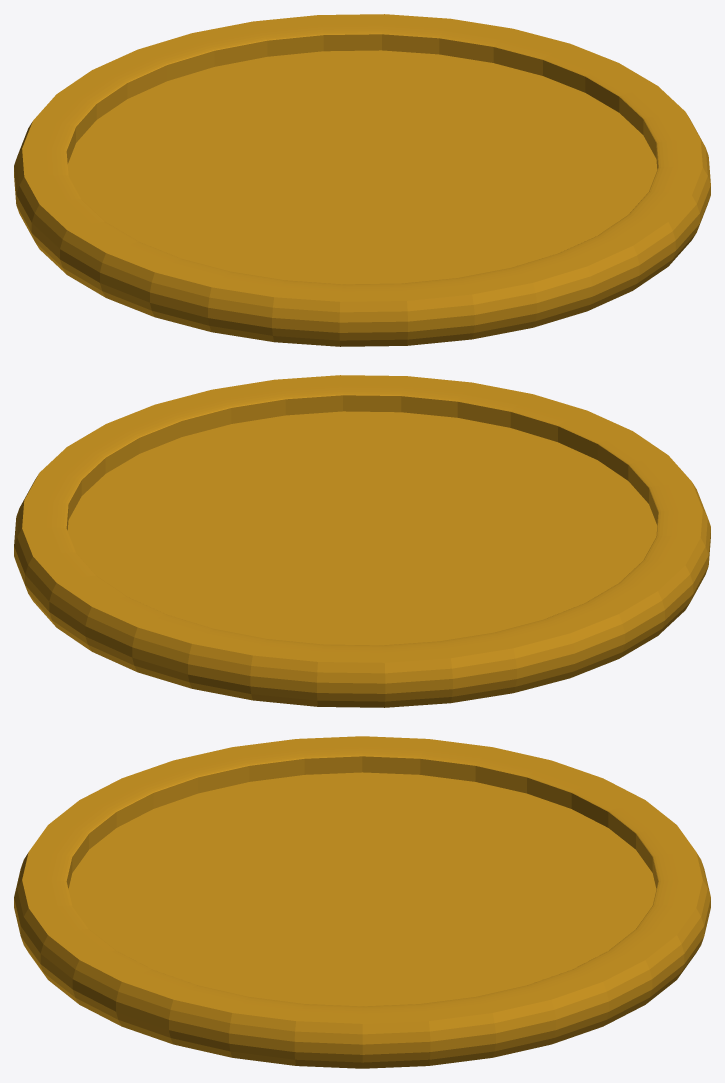
File: MassaDePixa.obj
The picture shows the model from 3 angles, top to bottom: view 1: azimuth 30°, elevation 25°; view 2: azimuth 150°, elevation 25°; view 3: azimuth 270°, elevation 25°; orthographic projection.
Parts seen in each view (by area): view 1: Cylinder; view 2: Cylinder; view 3: Cylinder.
Boxes of the visible parts, x1,y1,x2,y2 form: Cylinder: (14,14,710,346); Cylinder: (14,375,710,707); Cylinder: (14,736,710,1068).
Size of the model in its own units: 2.05 by 0.1455 by 2.05.
